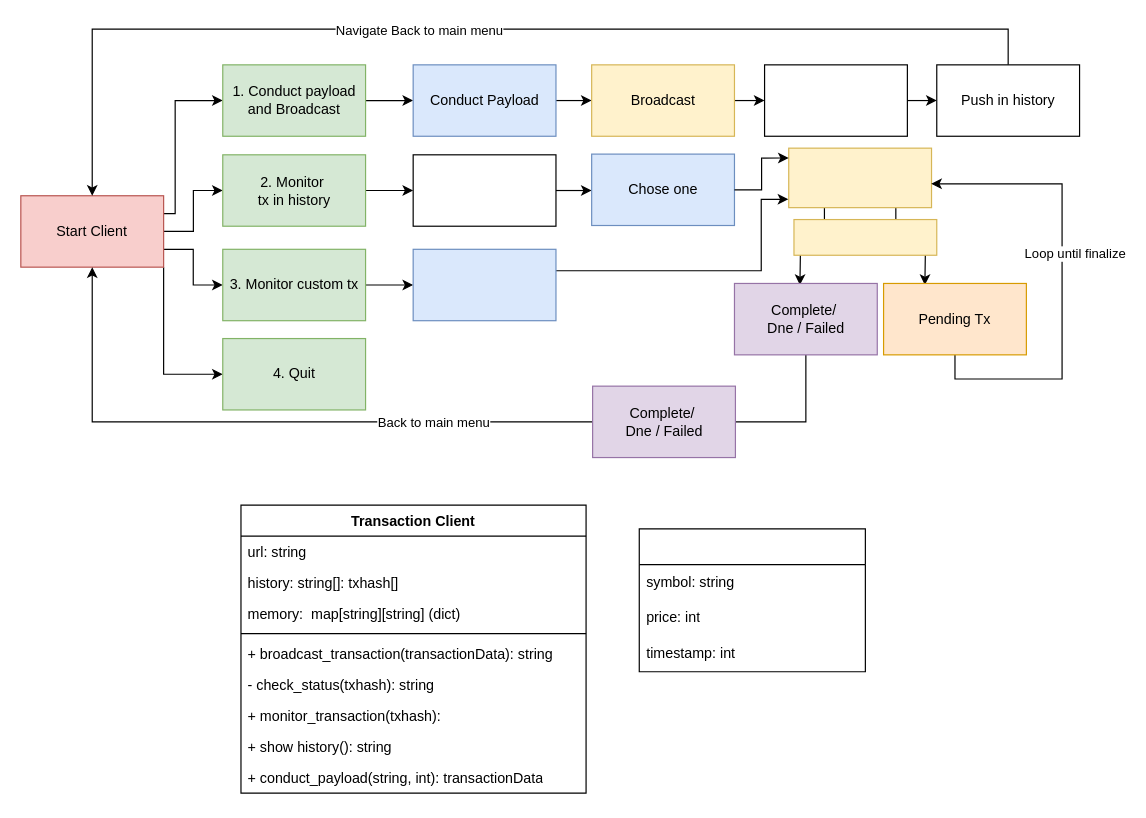
Some shapes in this 1146 by 818 pixel diagram are drawn without their labels. The box of each missing label's shape, as (x1, y1, x2, y2) in pixels:
Cache: (793, 218, 937, 255)
Fill in tx: (412, 248, 556, 321)
Get tx: (763, 64, 907, 136)
List tx in history: (412, 154, 556, 226)
Monitor: (788, 147, 932, 208)
TransactionData: (638, 528, 865, 672)
